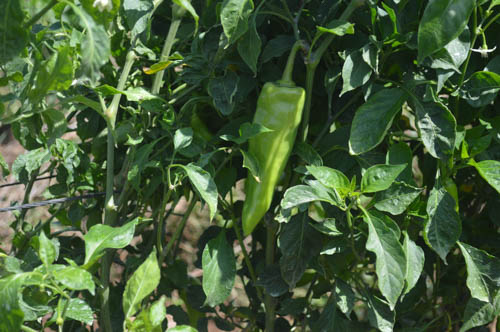ChiliPepper: (240, 85, 306, 237)
